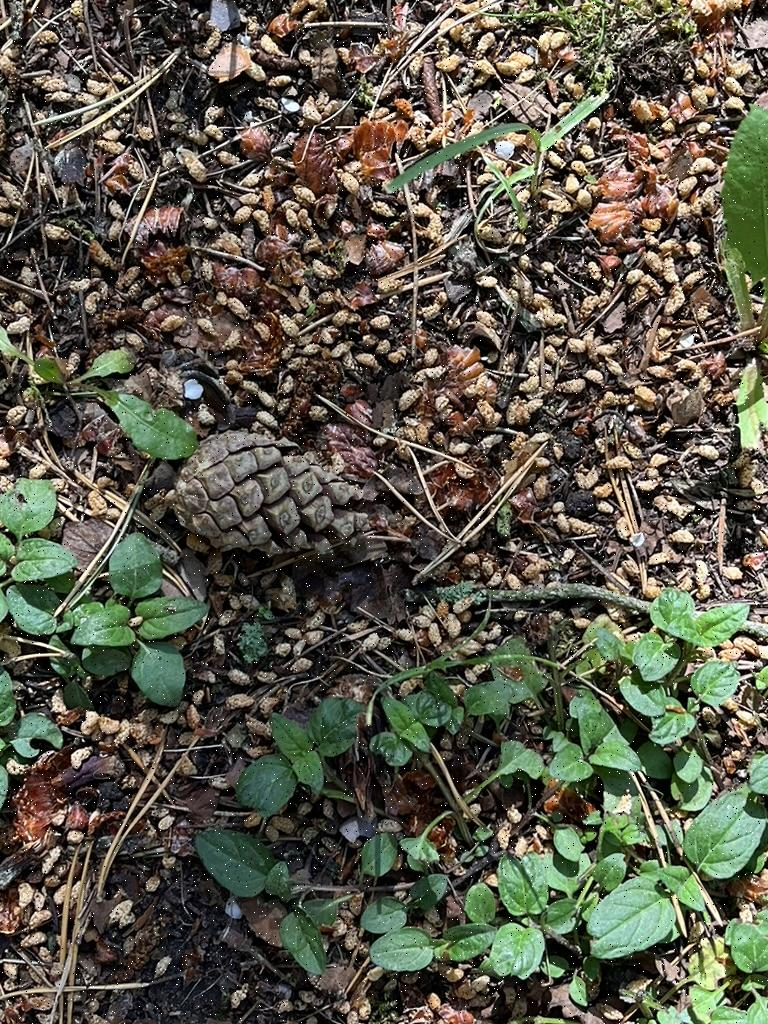pine: (156, 398, 418, 590)
